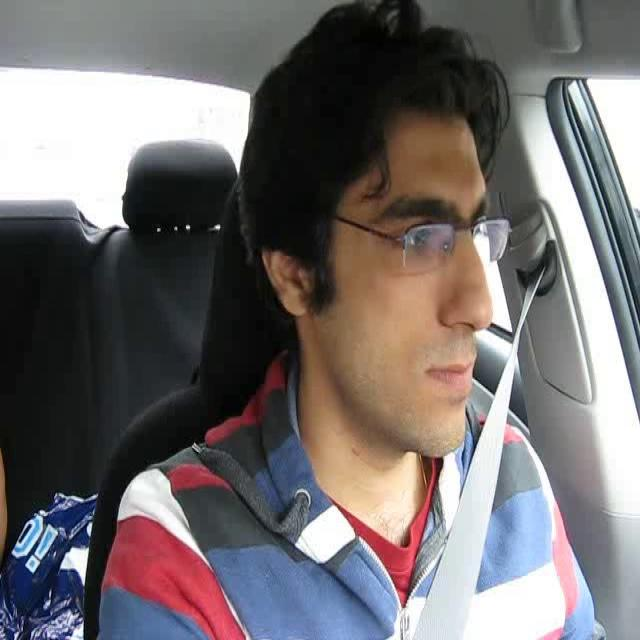close: (422, 346, 478, 396)
